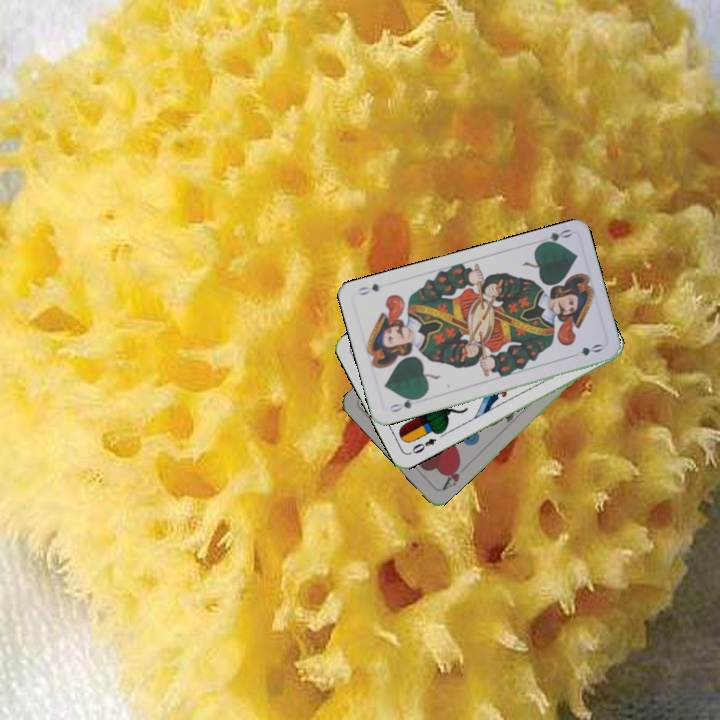EO: (405, 434, 439, 457)
GO: (535, 225, 574, 248), (386, 393, 423, 415)
HA: (438, 458, 470, 493)
